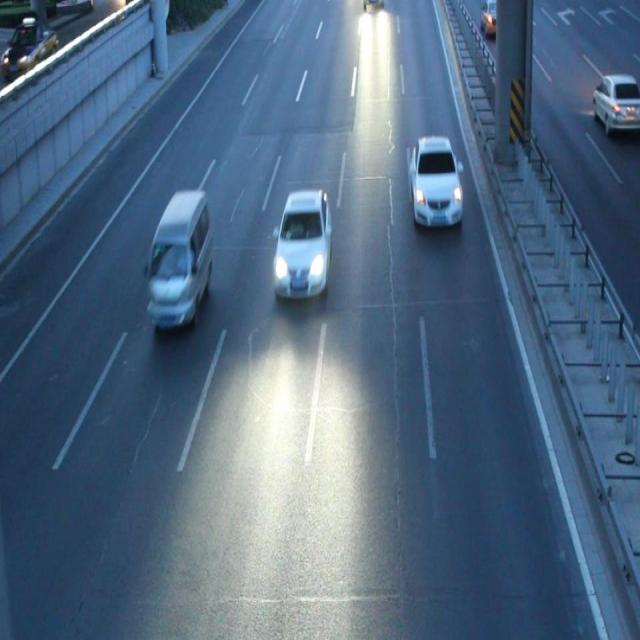car: (147, 190, 210, 329), (272, 187, 330, 302), (408, 137, 463, 228)
